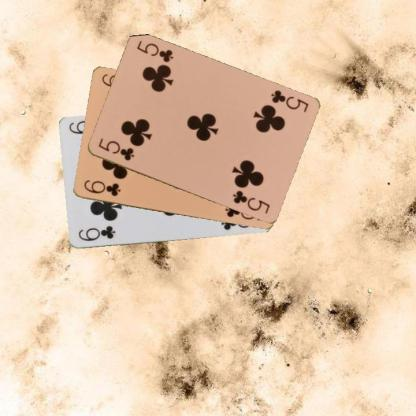5c: (268, 87, 310, 114), (96, 136, 136, 162)
6c: (80, 178, 122, 198), (76, 223, 116, 243)
